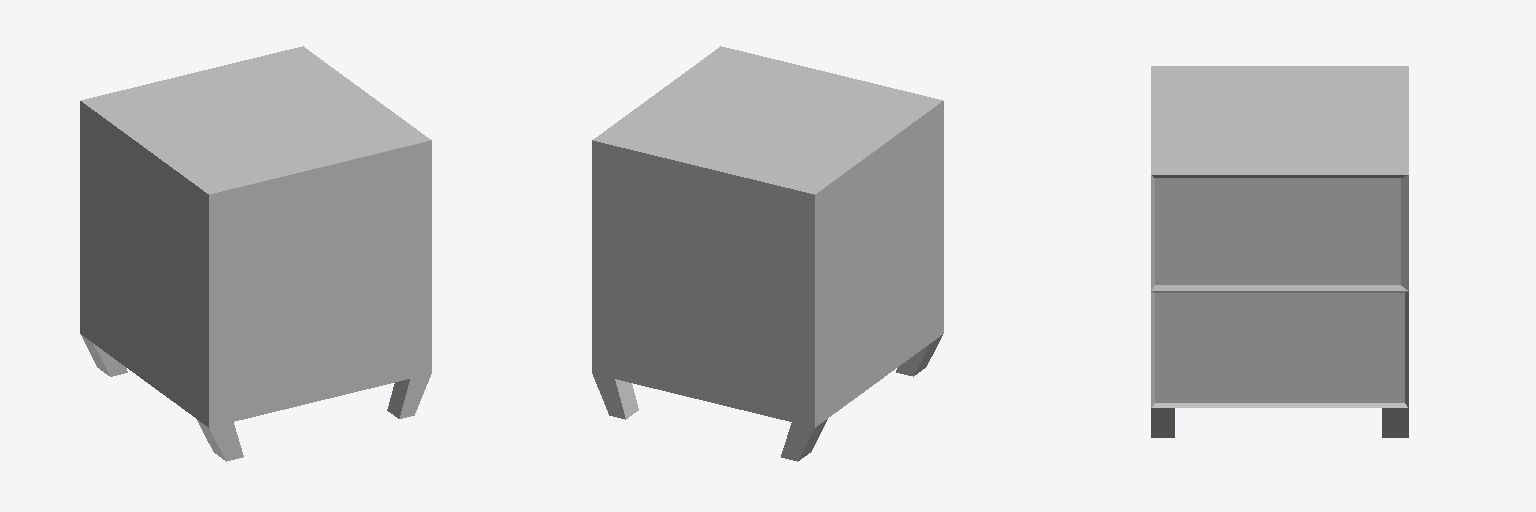
File: End_Table2.obj
3 renders of one model, left to right at view 1: azimuth 30°, elevation 25°; view 2: azimuth 150°, elevation 25°; view 3: azimuth 270°, elevation 25°, orthographic.
Parts seen in each view (by area): view 1: Cube; view 2: Cube; view 3: Cube.
Part boxes in pixels (bbox=[...]): Cube: bbox=[80, 46, 431, 461]; Cube: bbox=[592, 46, 943, 461]; Cube: bbox=[1151, 66, 1408, 437].
Size of the model in its own units: 3.98 by 4.63 by 3.98.